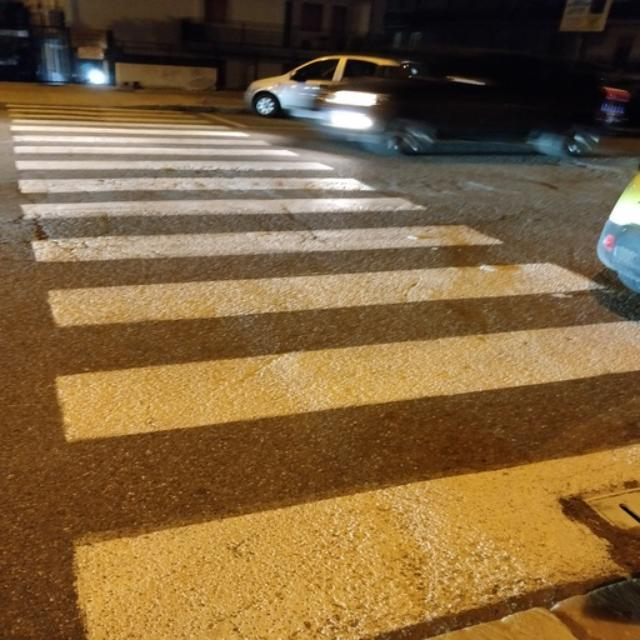sidewalk: (6, 103, 640, 639)
